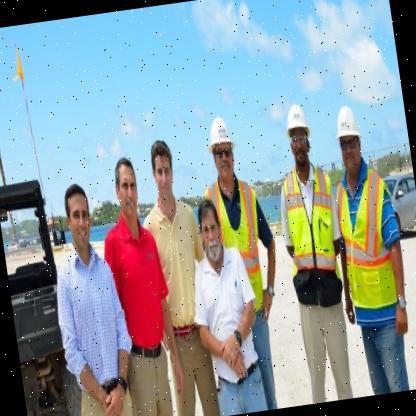capacete: (202, 107, 238, 156), (279, 100, 313, 148), (330, 104, 364, 147)
oculos: (288, 131, 310, 150)
